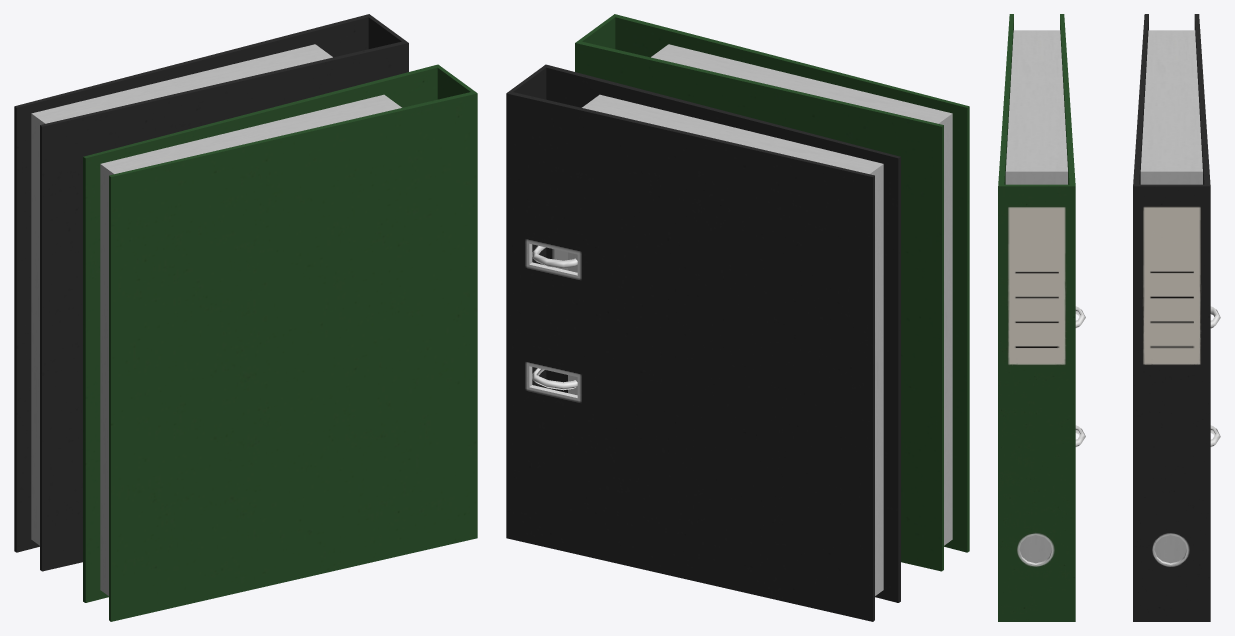
3 renders of one model, left to right at view 1: azimuth 30°, elevation 25°; view 2: azimuth 150°, elevation 25°; view 3: azimuth 270°, elevation 25°, orthographic. The views are drawn at different scales.
Parts seen in each view (by area): view 1: Folder_UV1, Folder_UV2; view 2: Folder_UV2, Folder_UV1; view 3: Folder_UV2, Folder_UV1.
Part boxes in pixels (bbox=[...]): Folder_UV1: bbox=[83, 64, 477, 621]; Folder_UV2: bbox=[14, 14, 408, 571]; Folder_UV2: bbox=[506, 64, 900, 621]; Folder_UV1: bbox=[575, 14, 969, 571]; Folder_UV2: bbox=[1133, 14, 1220, 621]; Folder_UV1: bbox=[998, 14, 1085, 621].
Size of the model in its own units: 0.2633 by 0.31 by 0.1437.
1 material, 1 textured.
